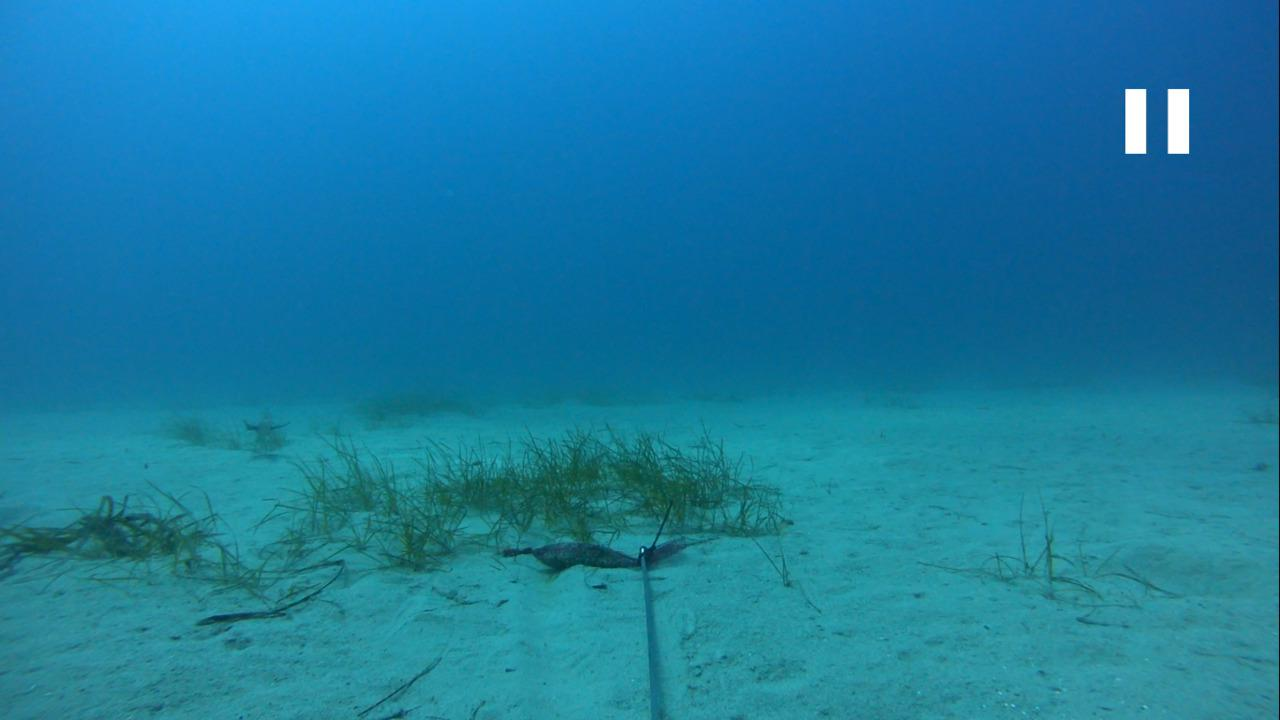dactylopterus: (238, 407, 286, 443)
